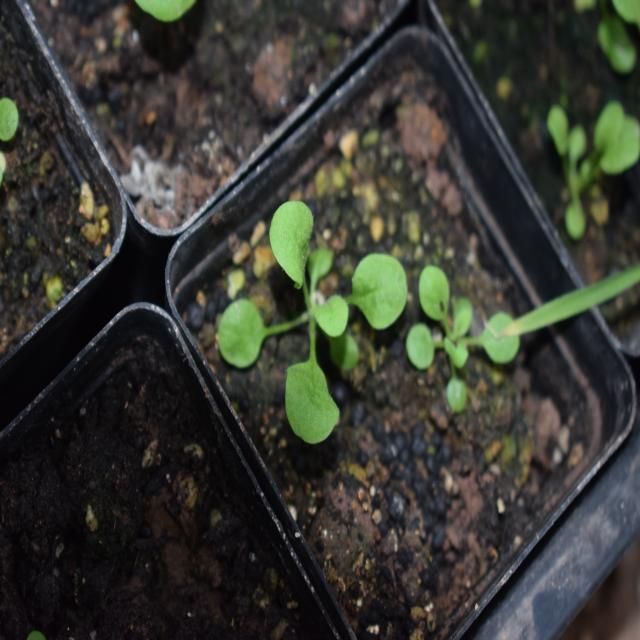Shepherd_Purse: (232, 192, 405, 444)
